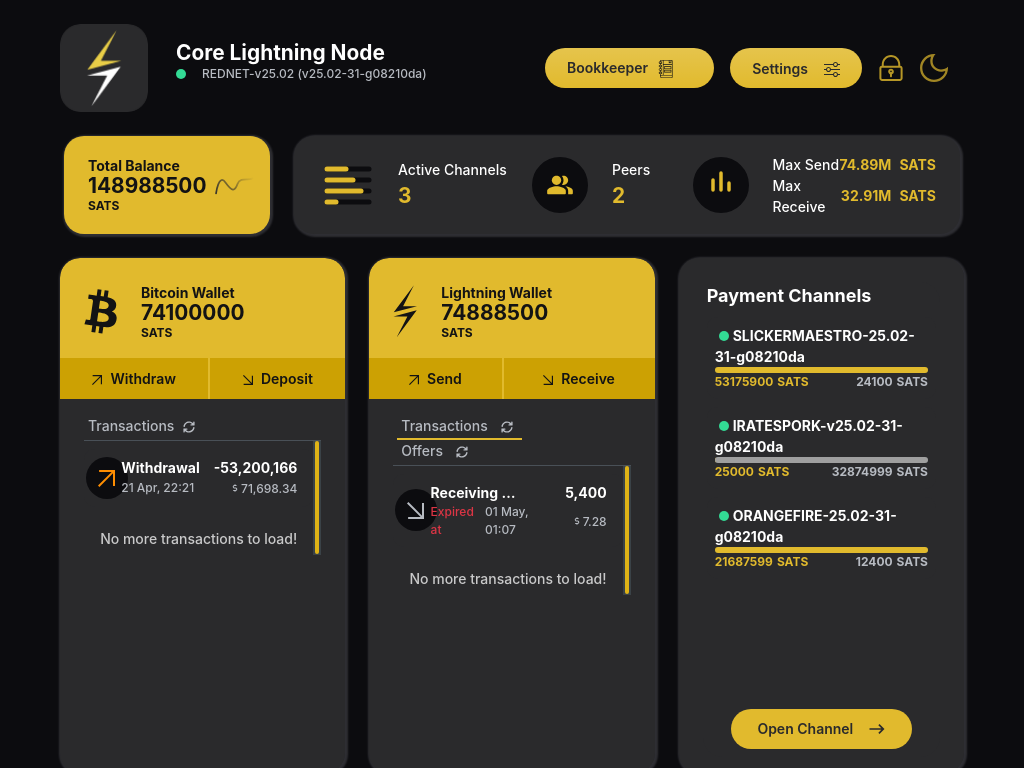
Test: BTCWithdraw component › should render the withdraw card with all fields
What coordinates should you click on to do the following:
click the button with test id "withdraw-button"
I would click on:
 (134, 378)
Its box is [60,358,208,399].
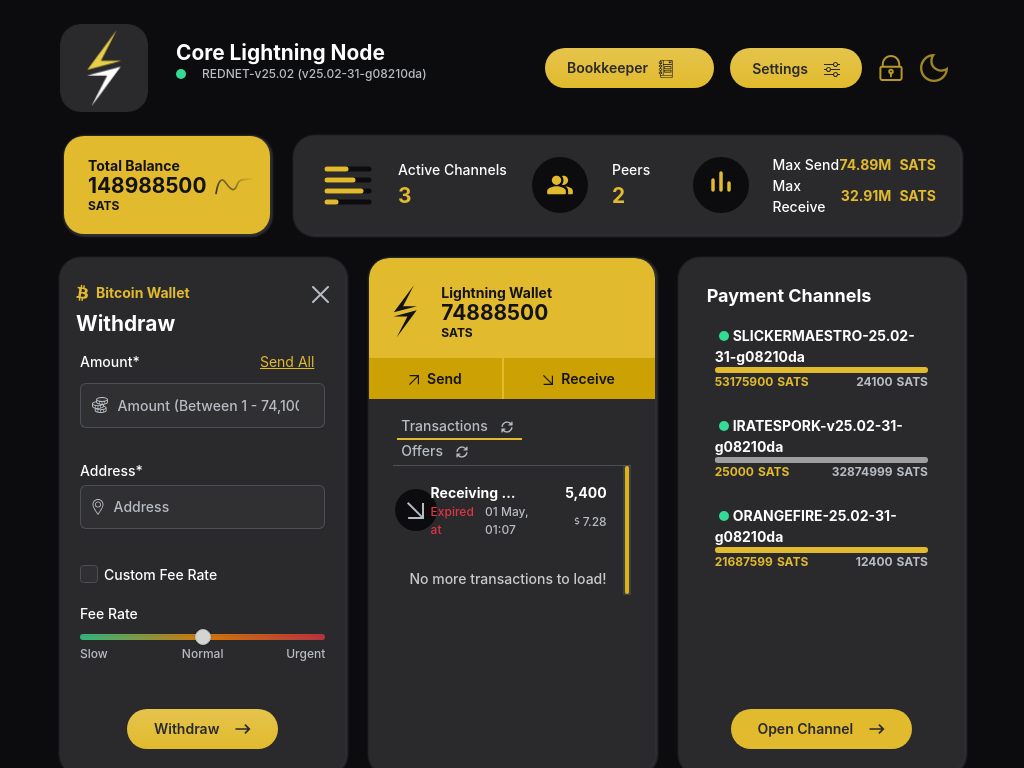
Check: the number field labelled "Amount" is shown, box [118,383,325,428]
Check: the field labelled "Address" is shown, box [114,485,325,529]
Check: the checkbox with test id "show-custom-fee-rate" is not checked, box [80,565,98,583]
